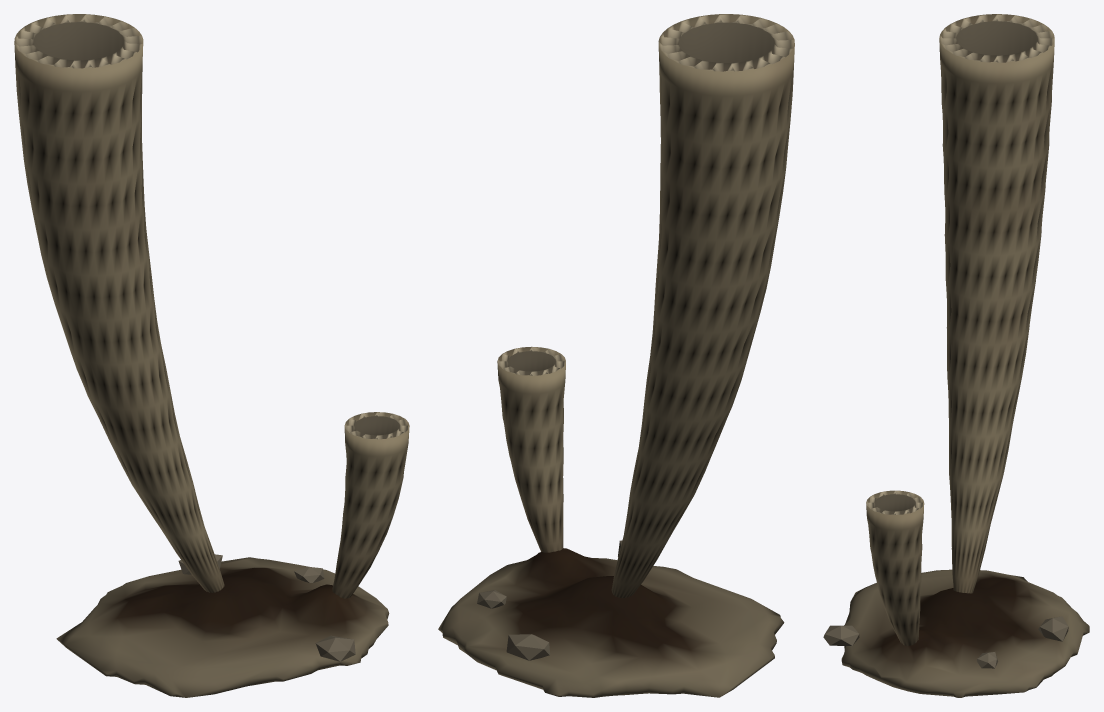
The model's file is Ethmophyllum.fbx.
3 renders of one model, left to right at view 1: azimuth 30°, elevation 25°; view 2: azimuth 150°, elevation 25°; view 3: azimuth 270°, elevation 25°, orthographic. The views are drawn at different scales.
Visible parts, largest first — view 1: Ethmophyllum; view 2: Ethmophyllum; view 3: Ethmophyllum.
Boxes of the visible parts, left/top/right/bottom form: Ethmophyllum: left=14, top=14, right=409, bottom=697; Ethmophyllum: left=438, top=14, right=794, bottom=697; Ethmophyllum: left=823, top=14, right=1089, bottom=697.
Size of the model in its own units: 0.8942 by 1.62 by 0.7053.
